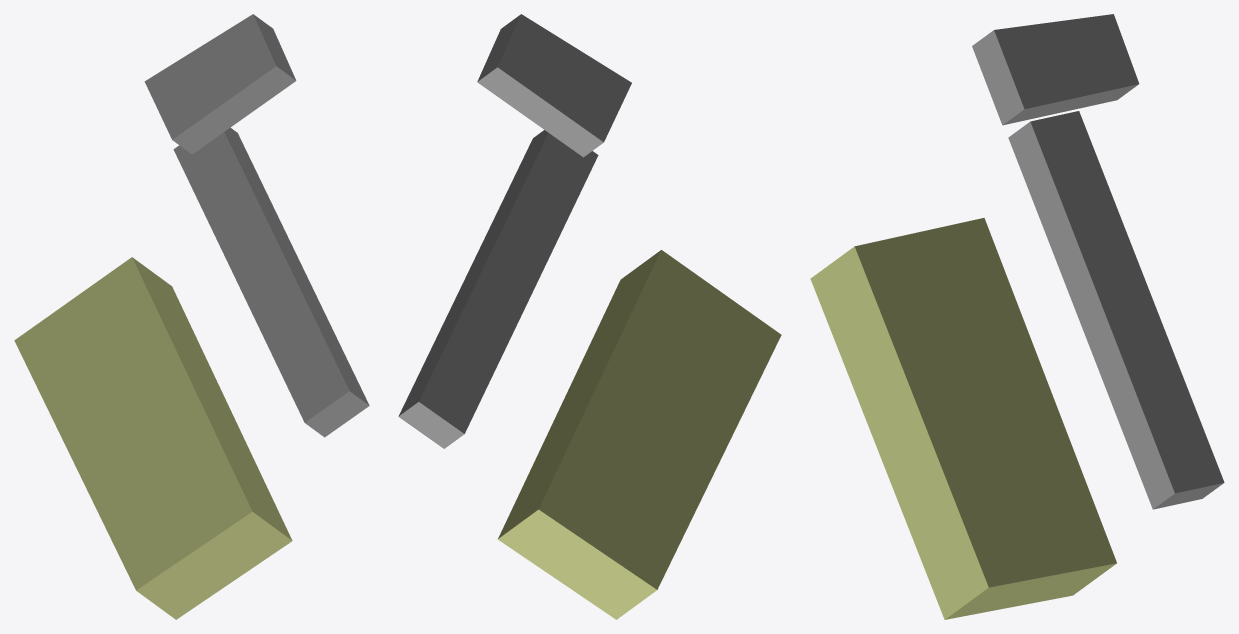
3 views of the same model, side by side, from view 1: azimuth 30°, elevation 25°; view 2: azimuth 150°, elevation 25°; view 3: azimuth 330°, elevation 25° (orthographic). The views are drawn at different scales.
Visible parts, largest first — view 1: 0_1_1_3_2_3_3_1_0; view 2: 0_1_1_3_2_3_3_1_0; view 3: 0_1_1_3_2_3_3_1_0.
Boxes of the visible parts, box(x1,y1,x2,y2) form: 0_1_1_3_2_3_3_1_0: box(14, 14, 369, 619); 0_1_1_3_2_3_3_1_0: box(398, 14, 781, 619); 0_1_1_3_2_3_3_1_0: box(810, 14, 1224, 619).
Size of the model in its own units: 28.98 by 45.38 by 6.02.
